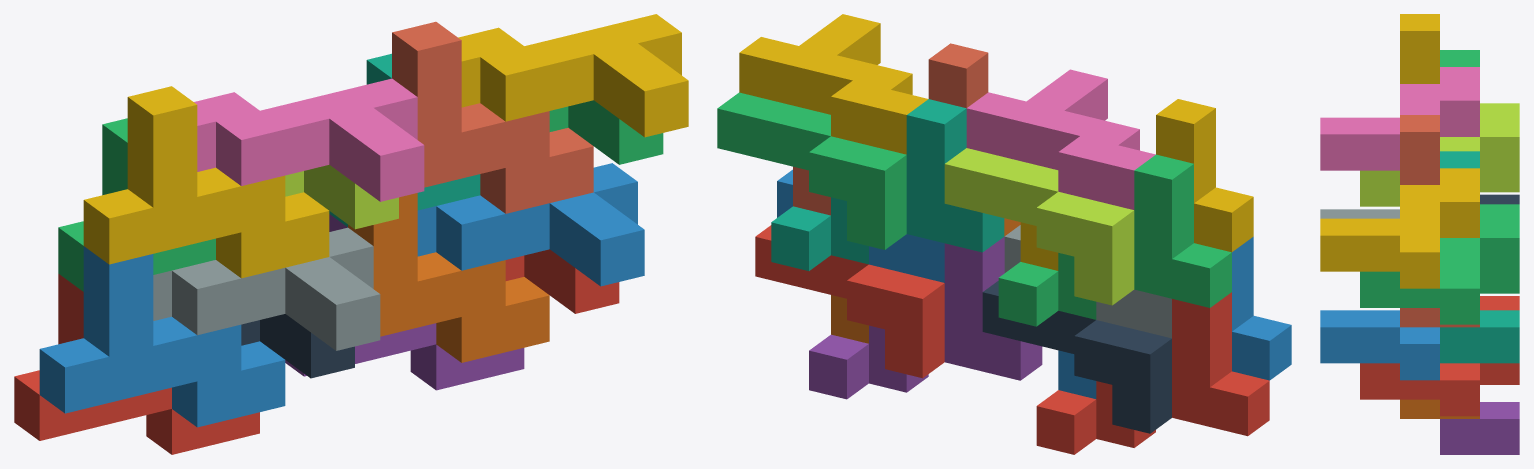
The model's file is tiling.obj.
3 renders of one model, left to right at view 1: azimuth 30°, elevation 25°; view 2: azimuth 150°, elevation 25°; view 3: azimuth 270°, elevation 25°, orthographic. The views are drawn at different scales.
Parts seen in each view (by area): view 1: copy_1_domain_4, copy_1_domain_2, copy_2_domain_4, copy_2_domain_8, copy_1_domain_8, copy_1_domain_6, copy_2_domain_2, copy_2_domain_6, copy_1_domain_1, copy_1_domain_5, copy_1_domain_3, copy_2_domain_7 (+4 smaller); view 2: copy_1_domain_3, copy_2_domain_4, copy_2_domain_8, copy_1_domain_1, copy_2_domain_3, copy_2_domain_7, copy_1_domain_7, copy_1_domain_5, copy_2_domain_5, copy_2_domain_1, copy_1_domain_4, copy_1_domain_2 (+4 smaller); view 3: copy_2_domain_8, copy_2_domain_7, copy_2_domain_4, copy_2_domain_6, copy_2_domain_5, copy_2_domain_3, copy_1_domain_7, copy_1_domain_8, copy_1_domain_5, copy_1_domain_4, copy_1_domain_6, copy_2_domain_2 (+2 smaller).
Part boxes in pixels (left/top/right/bottom): copy_1_domain_4: left=83, top=86, right=329, bottom=278; copy_1_domain_2: left=39, top=246, right=285, bottom=427; copy_2_domain_4: left=194, top=78, right=424, bottom=201; copy_2_domain_8: left=458, top=14, right=688, bottom=137; copy_1_domain_8: left=392, top=21, right=593, bottom=213; copy_1_domain_6: left=348, top=193, right=549, bottom=362; copy_2_domain_2: left=153, top=227, right=380, bottom=350; copy_2_domain_6: left=417, top=163, right=644, bottom=286; copy_1_domain_1: left=14, top=274, right=259, bottom=454; copy_1_domain_5: left=285, top=214, right=524, bottom=390; copy_1_domain_3: left=58, top=118, right=215, bottom=291; copy_2_domain_7: left=549, top=100, right=663, bottom=164; copy_1_domain_3: left=998, top=154, right=1231, bottom=326; copy_2_domain_4: left=966, top=69, right=1155, bottom=209; copy_2_domain_8: left=739, top=14, right=928, bottom=154; copy_1_domain_1: left=1036, top=292, right=1269, bottom=454; copy_2_domain_3: left=944, top=148, right=1134, bottom=305; copy_2_domain_7: left=717, top=92, right=906, bottom=249; copy_1_domain_7: left=771, top=99, right=1004, bottom=270; copy_1_domain_5: left=809, top=236, right=1042, bottom=399; copy_2_domain_5: left=755, top=225, right=944, bottom=378; copy_2_domain_1: left=982, top=281, right=1171, bottom=433; copy_1_domain_4: left=1020, top=99, right=1253, bottom=270; copy_1_domain_2: left=1058, top=236, right=1291, bottom=398; copy_2_domain_8: left=1320, top=168, right=1479, bottom=288; copy_2_domain_7: left=1360, top=204, right=1519, bottom=324; copy_2_domain_4: left=1320, top=67, right=1479, bottom=170; copy_2_domain_6: left=1320, top=310, right=1439, bottom=380; copy_2_domain_5: left=1360, top=296, right=1519, bottom=416; copy_2_domain_3: left=1360, top=103, right=1519, bottom=206; copy_1_domain_7: left=1440, top=151, right=1519, bottom=363; copy_1_domain_8: left=1400, top=115, right=1479, bottom=327; copy_1_domain_5: left=1440, top=402, right=1519, bottom=454; copy_1_domain_4: left=1400, top=14, right=1439, bottom=83; copy_1_domain_6: left=1400, top=399, right=1479, bottom=418; copy_2_domain_2: left=1320, top=209, right=1399, bottom=218.
Size of the model in its own units: 14 by 8 by 5.
